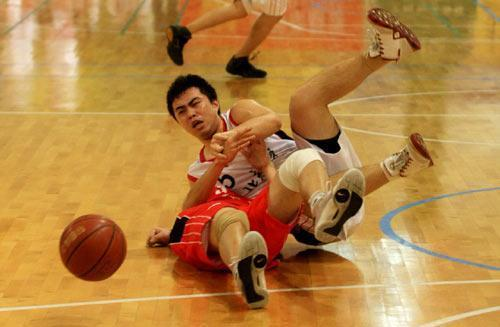Fall-Detected: (142, 159, 307, 303)
